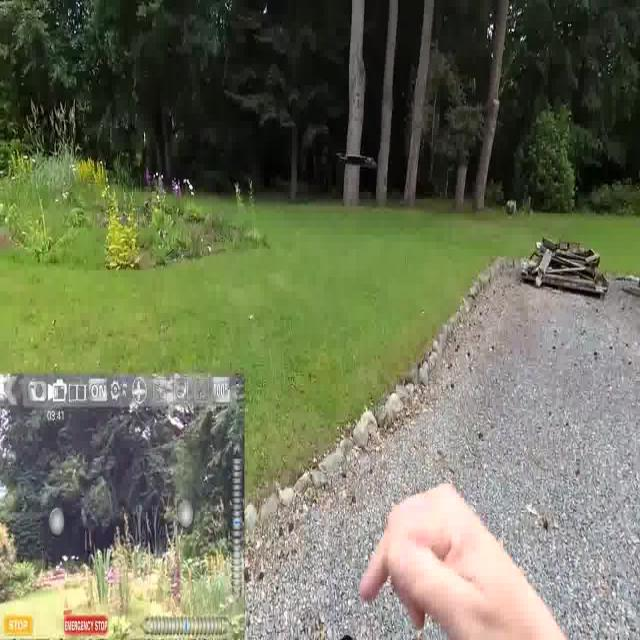drones: (326, 141, 385, 184)
